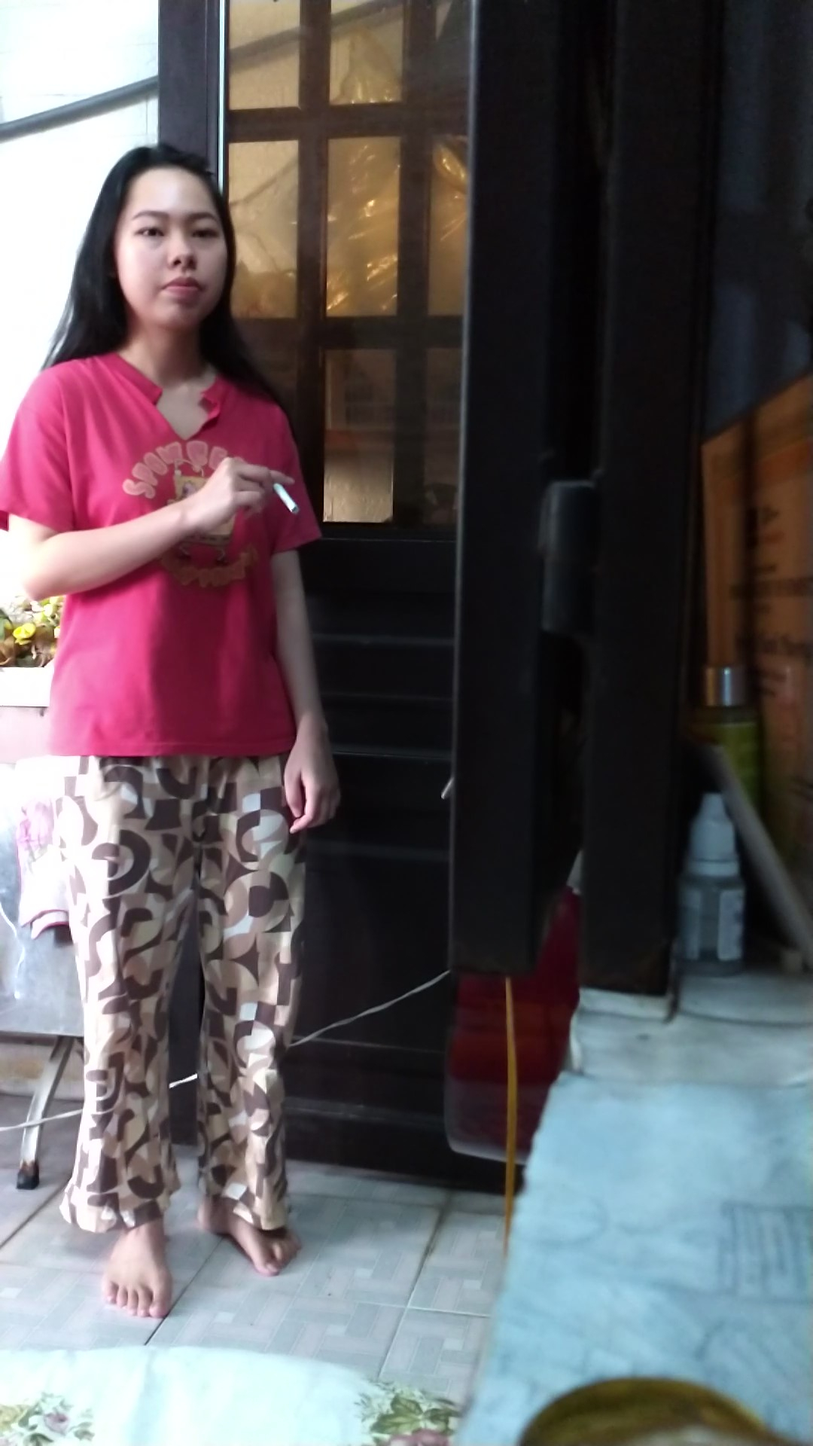cigarette: (271, 477, 302, 522)
person: (0, 145, 339, 761)
